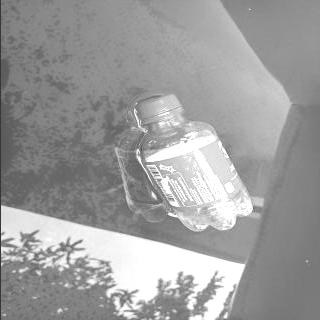bottle: (131, 91, 256, 232)
